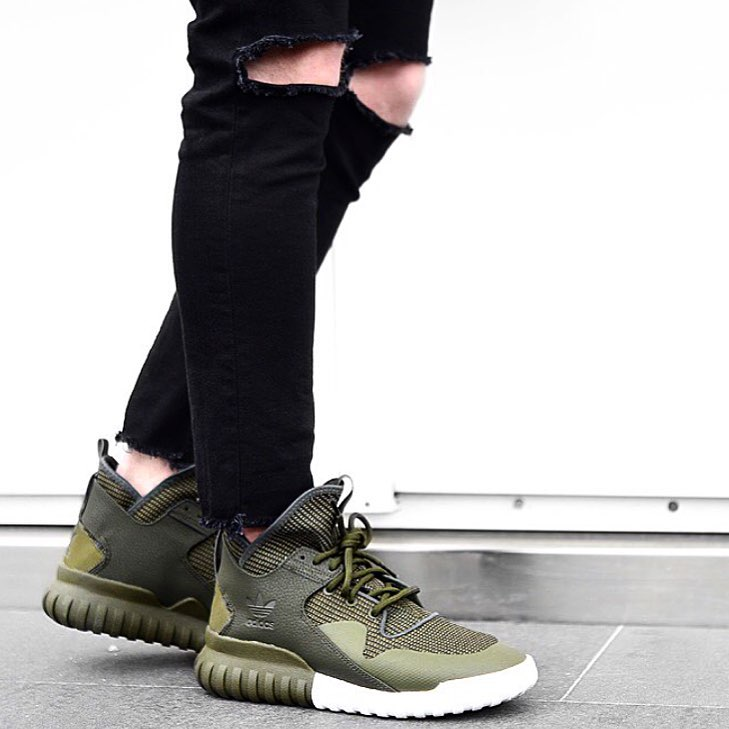sneaker: (157, 463, 565, 729), (22, 424, 252, 660)
